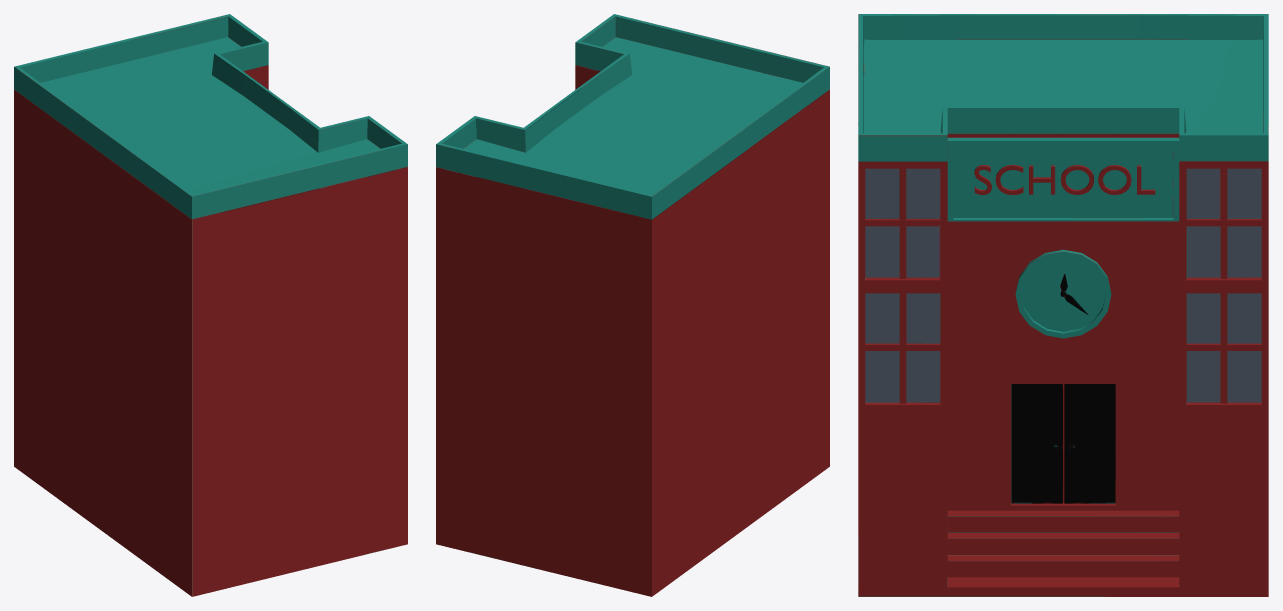
3 views of the same model, side by side, from view 1: azimuth 30°, elevation 25°; view 2: azimuth 150°, elevation 25°; view 3: azimuth 270°, elevation 25° (orthographic). The views are drawn at different scales.
Visible parts, largest first — view 1: School; view 2: School; view 3: School.
Part boxes in pixels (<box>): School: <box>14,14,407,596</box>; School: <box>436,14,829,596</box>; School: <box>858,14,1268,596</box>.
Bounding box in the file's own units: 175 × 310 × 250.
1 material, 1 textured.
